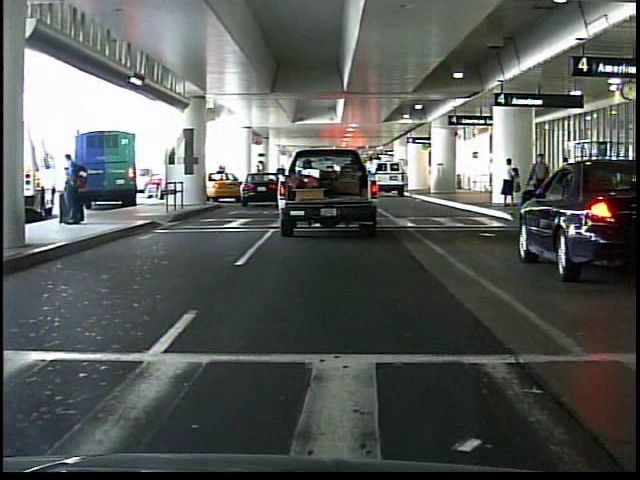person: (58, 147, 91, 234), (528, 149, 553, 213), (498, 155, 522, 210)
